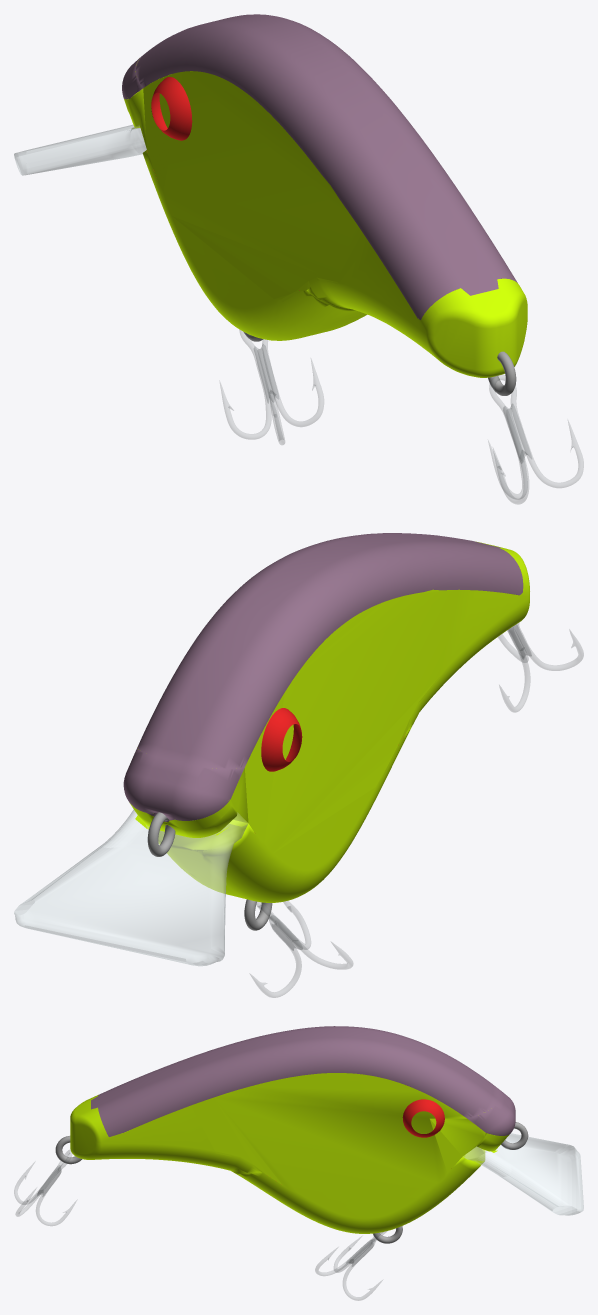
File: yonah.glb
The picture shows the model from 3 angles, top to bottom: view 1: azimuth 30°, elevation 25°; view 2: azimuth 150°, elevation 25°; view 3: azimuth 270°, elevation 25°; orthographic projection. The views are drawn at different scales.
Visible parts, largest first — view 1: Razor_Website001_3, Razor_Website001_4, Razor_Website001_2, obj0, obj0001, Razor_Website001, Razor_Website001_5; view 2: Razor_Website001_3, Razor_Website001_4, Razor_Website001_2, obj0, Razor_Website001, obj0001, Razor_Website001_5; view 3: Razor_Website001_3, Razor_Website001_4, Razor_Website001_2, obj0001, obj0, Razor_Website001_5, Razor_Website001.
Boxes of the visible parts, left/top/right/bottom form: Razor_Website001_3: left=124, top=60, right=527, bottom=377; Razor_Website001_4: left=122, top=14, right=517, bottom=319; Razor_Website001_2: left=14, top=124, right=146, bottom=175; obj0: left=220, top=330, right=323, bottom=444; obj0001: left=488, top=375, right=583, bottom=504; Razor_Website001: left=151, top=77, right=299, bottom=290; Razor_Website001_5: left=243, top=332, right=516, bottom=395; Razor_Website001_3: left=130, top=541, right=529, bottom=902; Razor_Website001_4: left=123, top=533, right=523, bottom=821; Razor_Website001_2: left=14, top=809, right=247, bottom=966; obj0: left=250, top=901, right=352, bottom=997; Razor_Website001: left=261, top=708, right=302, bottom=771; obj0001: left=498, top=623, right=583, bottom=712; Razor_Website001_5: left=147, top=812, right=272, bottom=930; Razor_Website001_3: left=70, top=1073, right=509, bottom=1233; Razor_Website001_4: left=91, top=1026, right=515, bottom=1136; Razor_Website001_2: left=463, top=1133, right=583, bottom=1215; obj0001: left=14, top=1150, right=76, bottom=1225; obj0: left=315, top=1231, right=386, bottom=1300; Razor_Website001_5: left=55, top=1122, right=528, bottom=1243; Razor_Website001: left=402, top=1099, right=444, bottom=1137.
Size of the model in its own units: 16.45 by 33.23 by 64.38.
